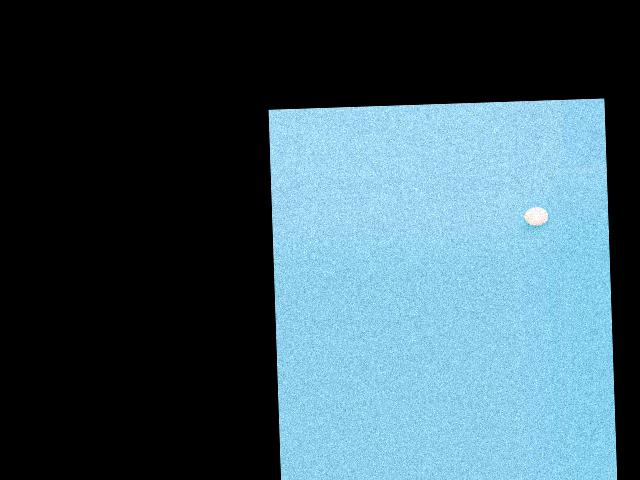egg: (523, 206, 548, 226)
